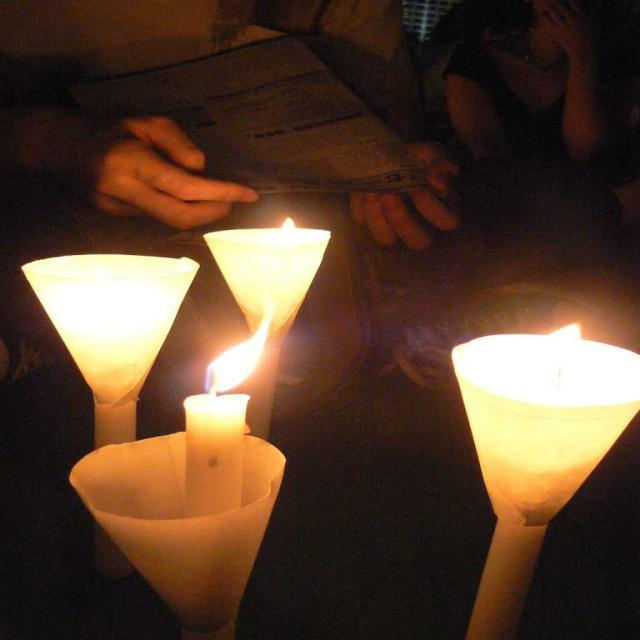Fire: (204, 336, 267, 402), (542, 312, 590, 386), (268, 212, 316, 248)
